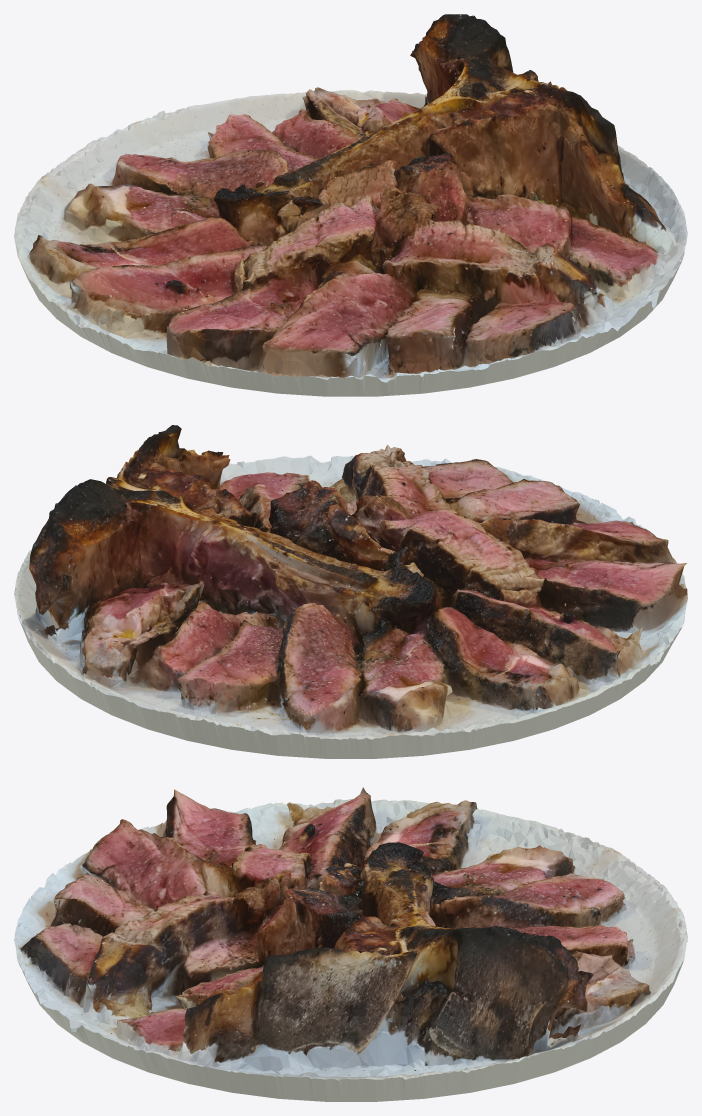
File: chuleton.glb
3 renders of one model, top to bottom at view 1: azimuth 30°, elevation 25°; view 2: azimuth 150°, elevation 25°; view 3: azimuth 270°, elevation 25°, orthographic.
Visible parts, largest first — view 1: FlorenceSteak_Model_3_FlorenceSteak_Model_3_u1_v1_0, FlorenceSteak_Model_3.001_Plate_0; view 2: FlorenceSteak_Model_3_FlorenceSteak_Model_3_u1_v1_0, FlorenceSteak_Model_3.001_Plate_0; view 3: FlorenceSteak_Model_3_FlorenceSteak_Model_3_u1_v1_0, FlorenceSteak_Model_3.001_Plate_0.
Boxes of the visible parts, <box> form: FlorenceSteak_Model_3_FlorenceSteak_Model_3_u1_v1_0: <box>14,14,687,382</box>; FlorenceSteak_Model_3.001_Plate_0: <box>18,192,681,396</box>; FlorenceSteak_Model_3_FlorenceSteak_Model_3_u1_v1_0: <box>14,425,687,739</box>; FlorenceSteak_Model_3.001_Plate_0: <box>18,462,681,758</box>; FlorenceSteak_Model_3_FlorenceSteak_Model_3_u1_v1_0: <box>14,787,687,1080</box>; FlorenceSteak_Model_3.001_Plate_0: <box>18,802,687,1101</box>.
Bounding box in the file's own units: 0.3191 × 0.0861 × 0.32.
Materials: 2 (1 with a texture image).
